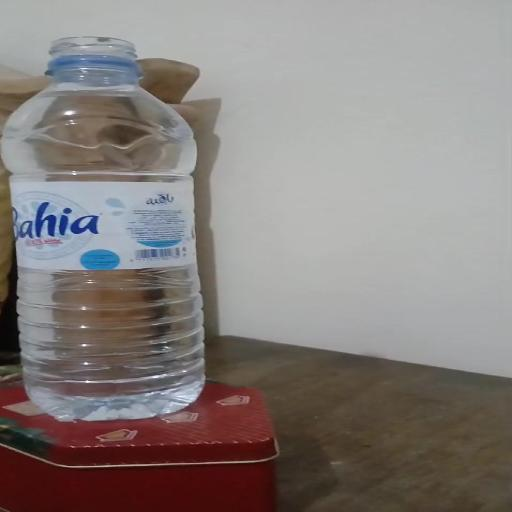bouteille non conformite: (6, 19, 218, 429), (27, 30, 155, 94)
